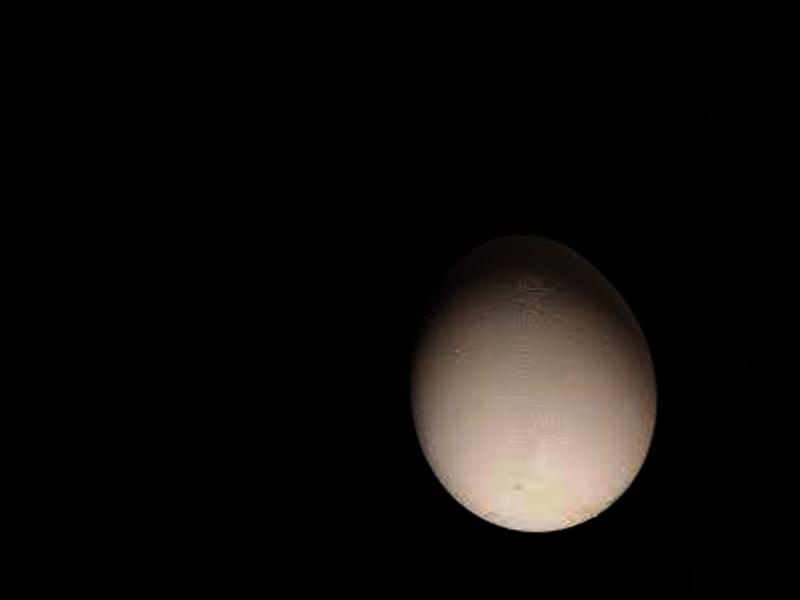Eggs: (408, 233, 659, 537)
